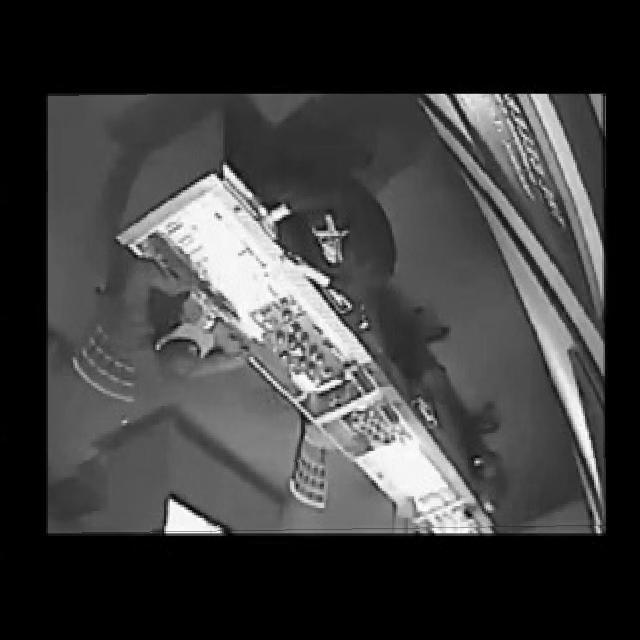Normal: (48, 94, 608, 534)
